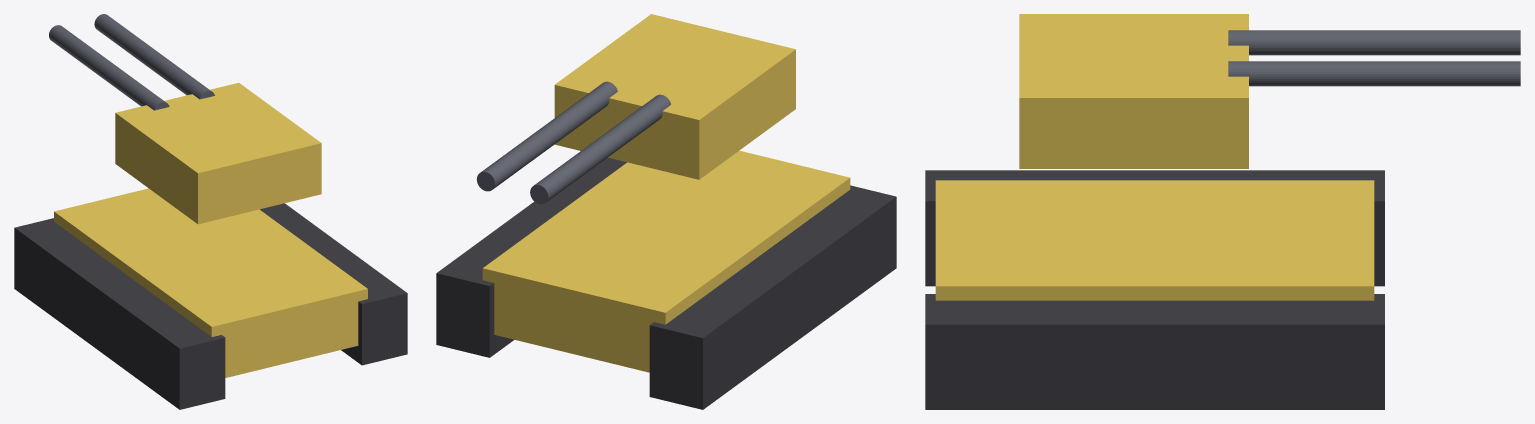
The model's file is CO_QinglongMBT.fbx.
3 views of the same model, side by side, from view 1: azimuth 30°, elevation 25°; view 2: azimuth 150°, elevation 25°; view 3: azimuth 270°, elevation 25° (orthographic). The views are drawn at different scales.
Parts seen in each view (by area): view 1: Cube, Cube.003, Cube.001, Cube.002, Cylinder.001, Cylinder; view 2: Cube, Cube.001, Cube.003, Cube.002, Cylinder.001, Cylinder; view 3: Cube, Cube.002, Cube.003, Cylinder, Cylinder.001, Cube.001.
Part boxes in pixels (box(x1,y1,x2,y2)): Cube: box(54, 188, 367, 377); Cube.003: box(115, 82, 321, 224); Cube.001: box(14, 218, 225, 409); Cube.002: box(260, 203, 407, 365); Cylinder.001: box(94, 14, 214, 99); Cylinder: box(49, 25, 169, 110); Cube: box(482, 150, 850, 372); Cube.001: box(649, 185, 896, 409); Cube.003: box(554, 14, 795, 179); Cube.002: box(436, 157, 626, 357); Cylinder.001: box(476, 81, 617, 191); Cylinder: box(530, 94, 670, 204); Cube: box(935, 180, 1374, 300); Cube.002: box(925, 294, 1384, 409); Cube.003: box(1019, 14, 1248, 168); Cylinder: box(1228, 30, 1520, 55); Cylinder.001: box(1228, 61, 1520, 86); Cube.001: box(925, 170, 1384, 286).
Size of the model in its own units: 350 by 302 by 570.
